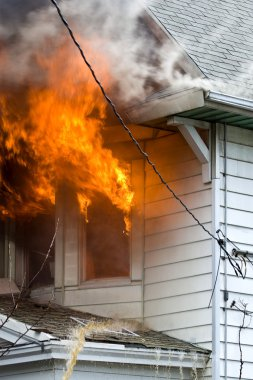fire: (35, 69, 134, 233)
